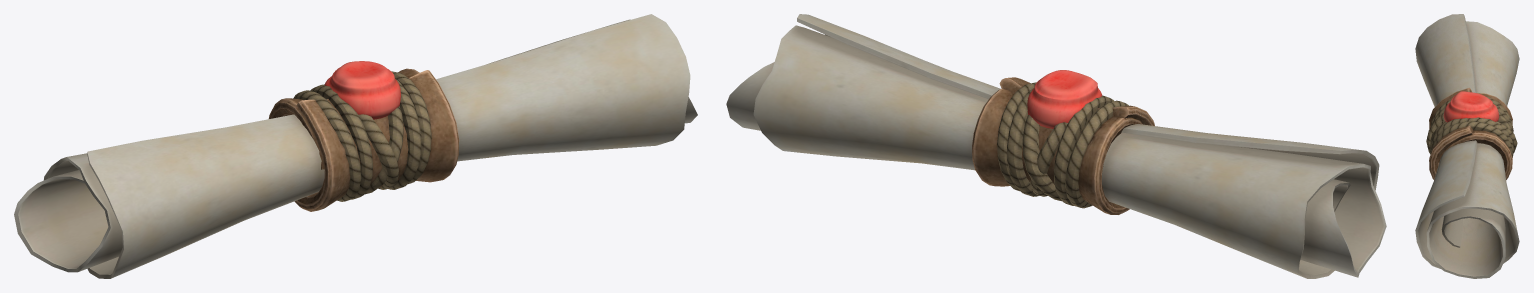
Rendered from scroll.glb.
3 renders of one model, left to right at view 1: azimuth 30°, elevation 25°; view 2: azimuth 150°, elevation 25°; view 3: azimuth 270°, elevation 25°, orthographic. The views are drawn at different scales.
Visible parts, largest first — view 1: Scroll; view 2: Scroll; view 3: Scroll.
Part boxes in pixels (box(x1,y1,x2,y2)): Scroll: box(14, 14, 697, 278); Scroll: box(726, 14, 1386, 278); Scroll: box(1415, 14, 1519, 278).
Size of the model in its own units: 120 by 24.34 by 25.5.
Materials: 1 (1 with a texture image).
